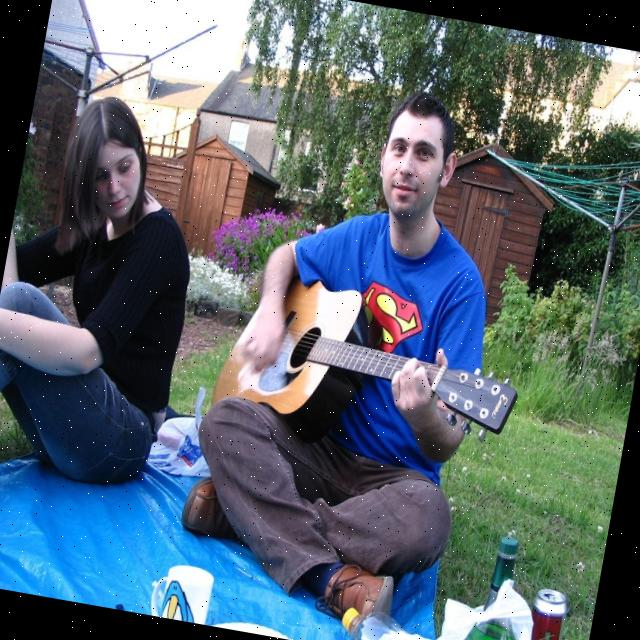guitar: (207, 253, 532, 478)
